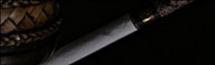Cigarette: (37, 0, 190, 64)
